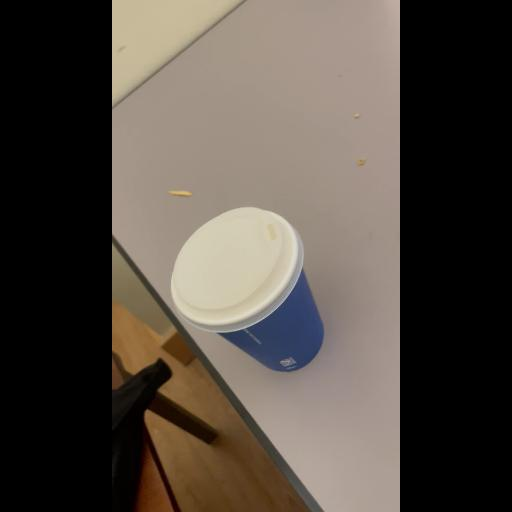lp_paper_cup: (173, 208, 323, 372)
